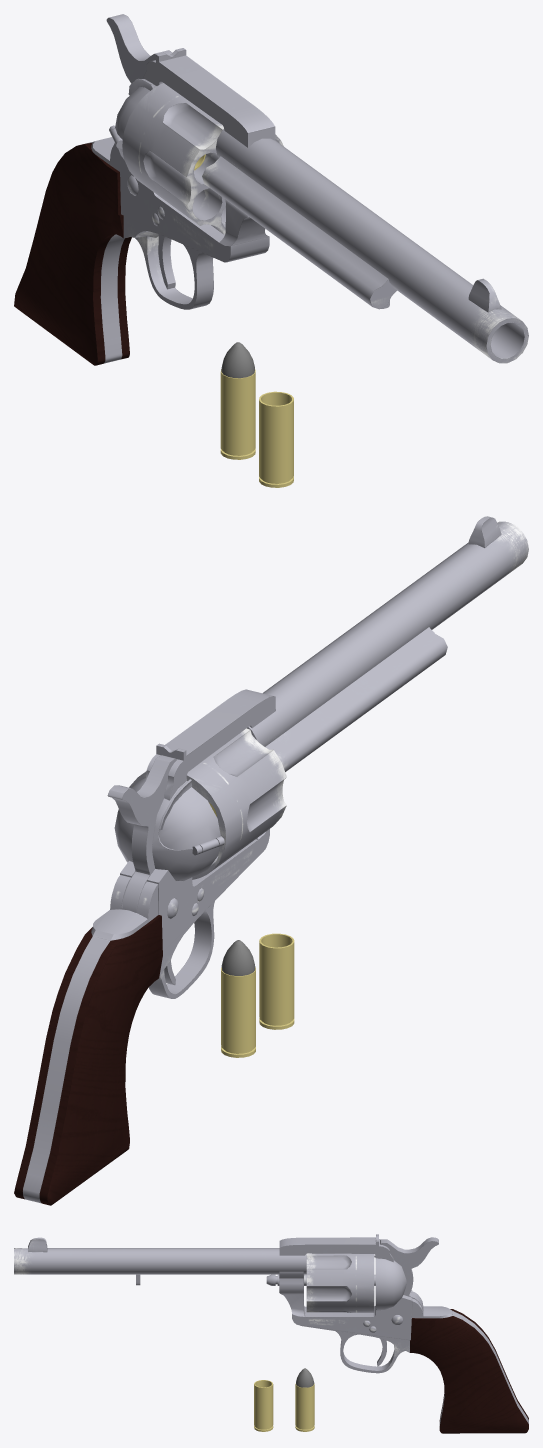
3 renders of one model, top to bottom at view 1: azimuth 30°, elevation 25°; view 2: azimuth 150°, elevation 25°; view 3: azimuth 270°, elevation 25°, orthographic. The views are drawn at different scales.
Visible parts, largest first — view 1: ColtSAA_Barrel, ColtSAA_Frame, ColtSAA_Grip, ColtSAA_Cylinder, Bullet, Bullet Case, ColtSAA_Hammer, ColtSAA_LoadGate, ColtSAA_Trigger; view 2: ColtSAA_Barrel, ColtSAA_Frame, ColtSAA_Grip, ColtSAA_Cylinder, ColtSAA_Hammer, Bullet, Bullet Case, ColtSAA_LoadGate; view 3: ColtSAA_Frame, ColtSAA_Grip, ColtSAA_Barrel, ColtSAA_Cylinder, ColtSAA_Hammer, Bullet, Bullet Case.
Part boxes in pixels (<box>): ColtSAA_Barrel: <box>202,129,528,363</box>; ColtSAA_Frame: <box>86,48,275,363</box>; ColtSAA_Grip: <box>14,143,131,365</box>; ColtSAA_Cylinder: <box>122,83,283,234</box>; Bullet: <box>220,342,255,459</box>; Bullet Case: <box>259,391,293,487</box>; ColtSAA_Hammer: <box>106,14,172,83</box>; ColtSAA_LoadGate: <box>109,78,154,148</box>; ColtSAA_Trigger: <box>158,234,175,289</box>; ColtSAA_Barrel: <box>247,516,528,771</box>; ColtSAA_Frame: <box>23,689,275,1203</box>; ColtSAA_Grip: <box>14,915,162,1205</box>; ColtSAA_Cylinder: <box>129,728,286,879</box>; ColtSAA_Hammer: <box>107,755,176,912</box>; Bullet: <box>221,940,255,1057</box>; Bullet Case: <box>259,933,294,1029</box>; ColtSAA_LoadGate: <box>159,779,224,855</box>; ColtSAA_Frame: <box>279,1234,528,1425</box>; ColtSAA_Grip: <box>410,1309,528,1433</box>; ColtSAA_Barrel: <box>14,1237,306,1274</box>; ColtSAA_Cylinder: <box>266,1253,375,1312</box>; ColtSAA_Hammer: <box>374,1237,438,1310</box>; Bullet: <box>295,1368,314,1431</box>; Bullet Case: <box>254,1380,273,1431</box>.
Bounding box in the file's own units: 0.5675 × 1.81 × 4.42.
3 materials, 1 textured.
